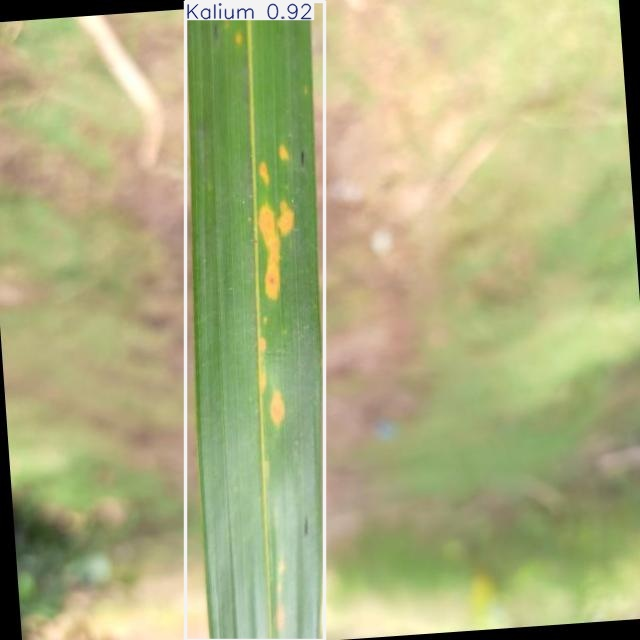Kalium: (185, 2, 324, 640)
